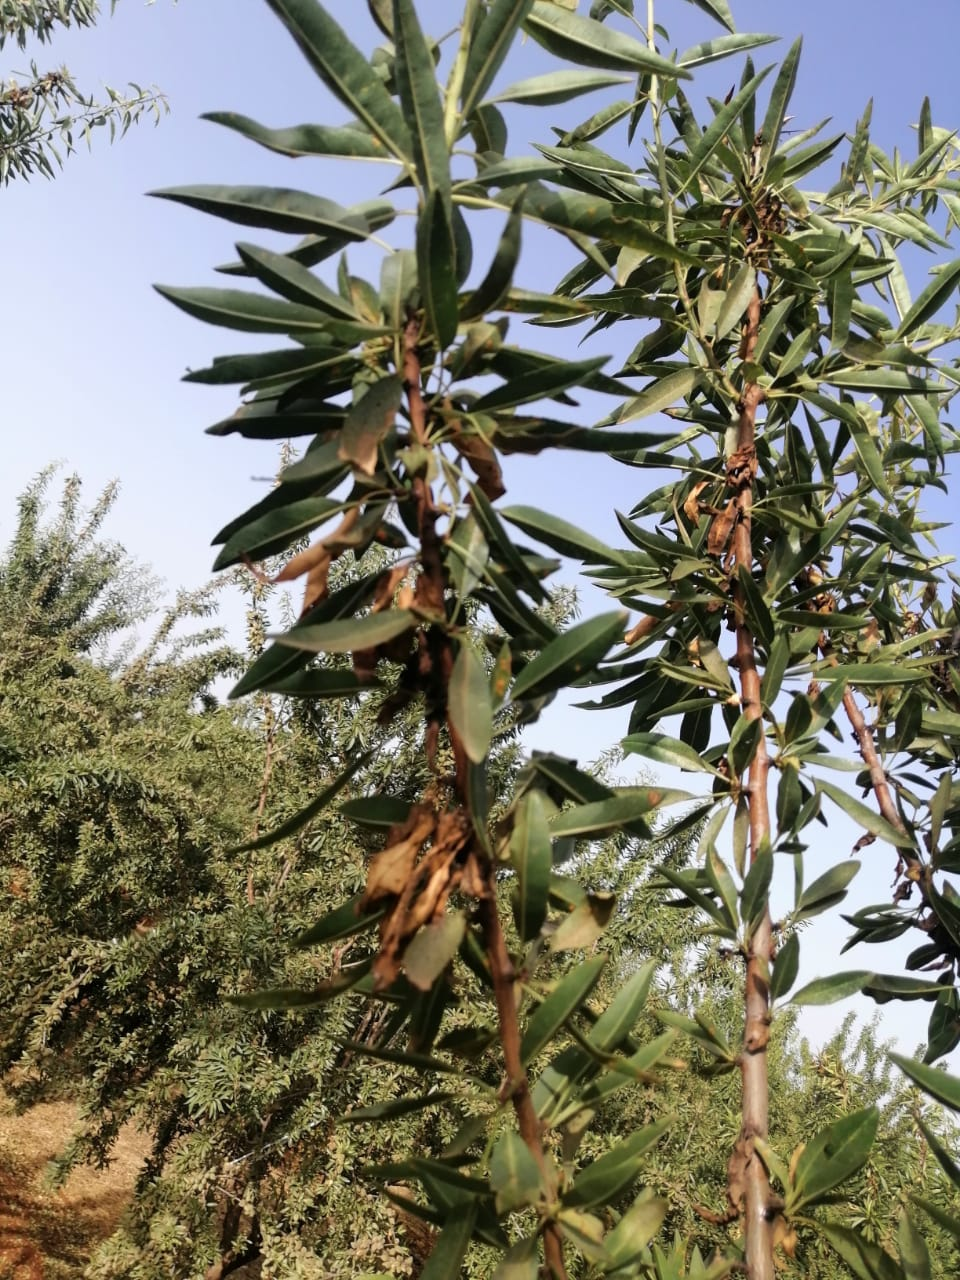scolytes: (279, 437, 498, 988), (675, 442, 774, 635)
